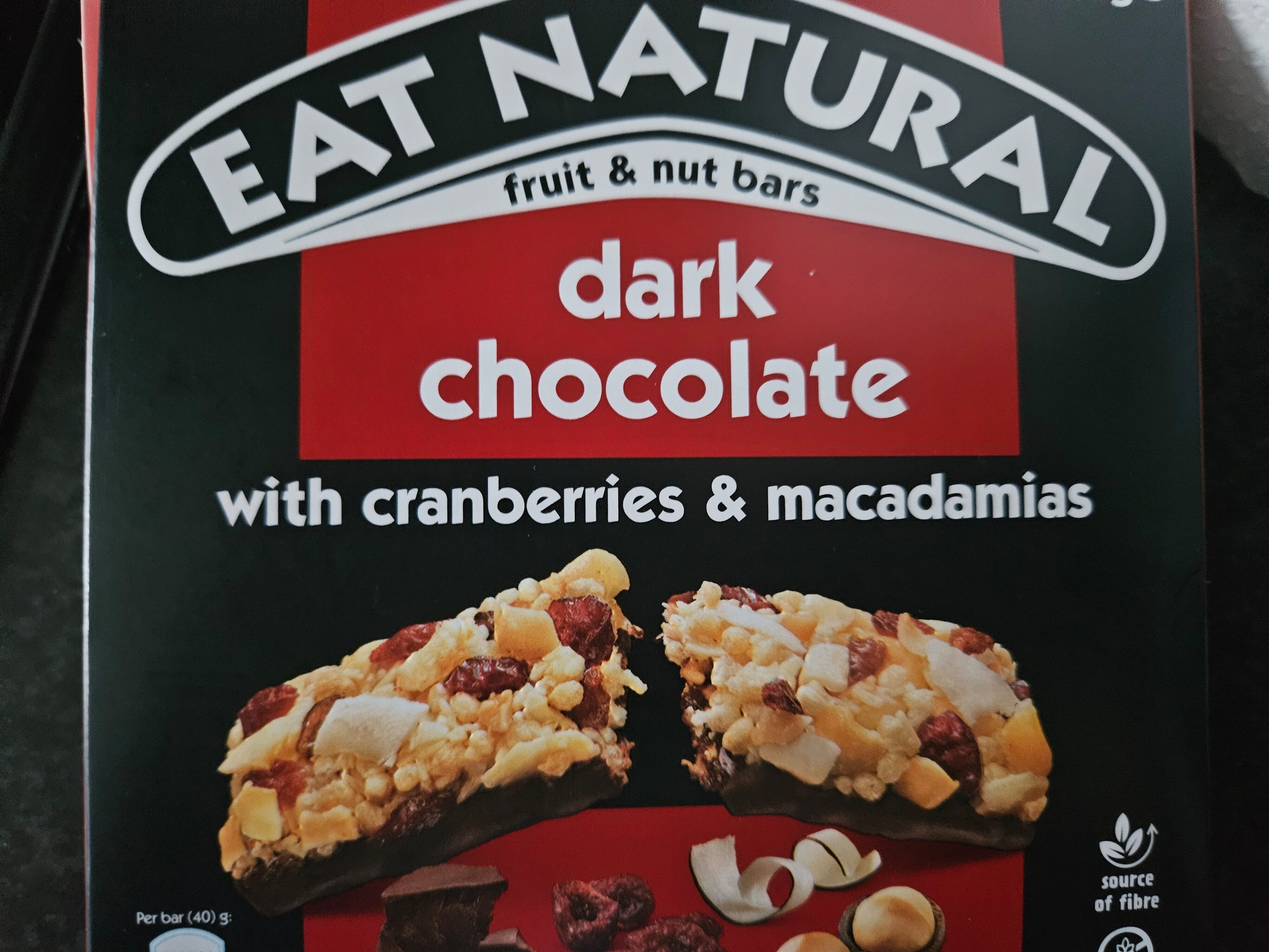Eat Natural Dark Chocolate With Cranberries And Macadam: (63, 48, 1206, 904)
